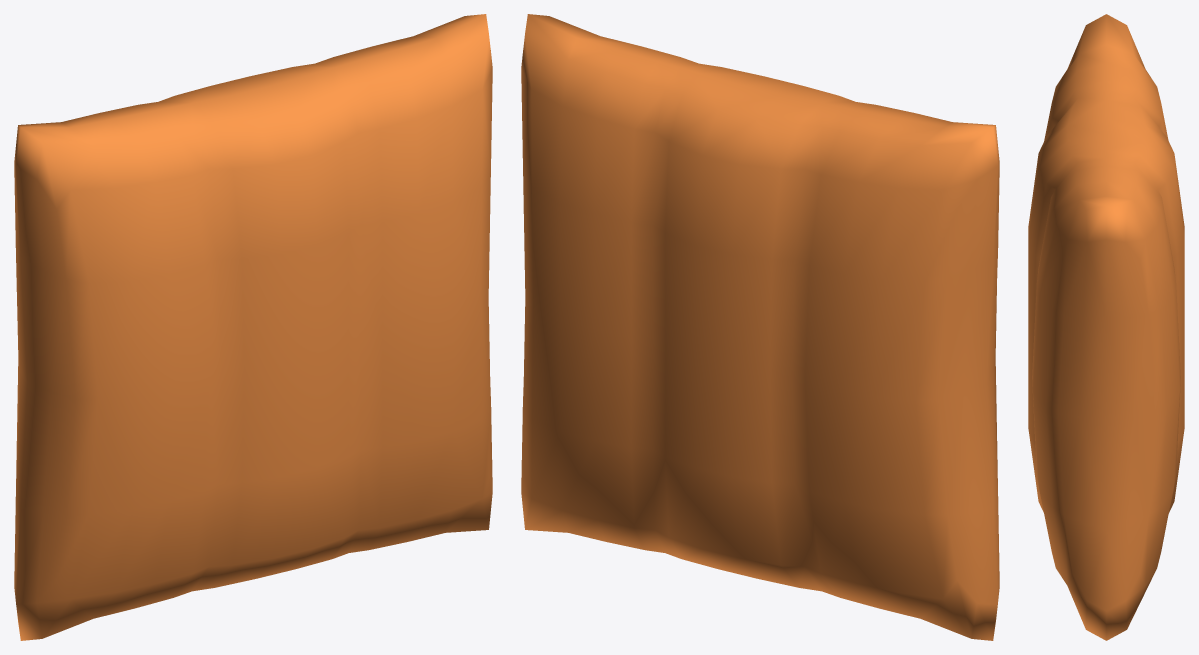
File: Pillow_15.glb
3 views of the same model, side by side, from view 1: azimuth 30°, elevation 25°; view 2: azimuth 150°, elevation 25°; view 3: azimuth 270°, elevation 25° (orthographic). The views are drawn at different scales.
Visible parts, largest first — view 1: Pillow_15; view 2: Pillow_15; view 3: Pillow_15.
Boxes of the visible parts, x1,y1,x2,y2 form: Pillow_15: [14, 14, 492, 640]; Pillow_15: [521, 14, 999, 640]; Pillow_15: [1028, 14, 1184, 640].
Size of the model in its own units: 0.487 by 0.5033 by 0.1642.
1 material, 1 textured.
